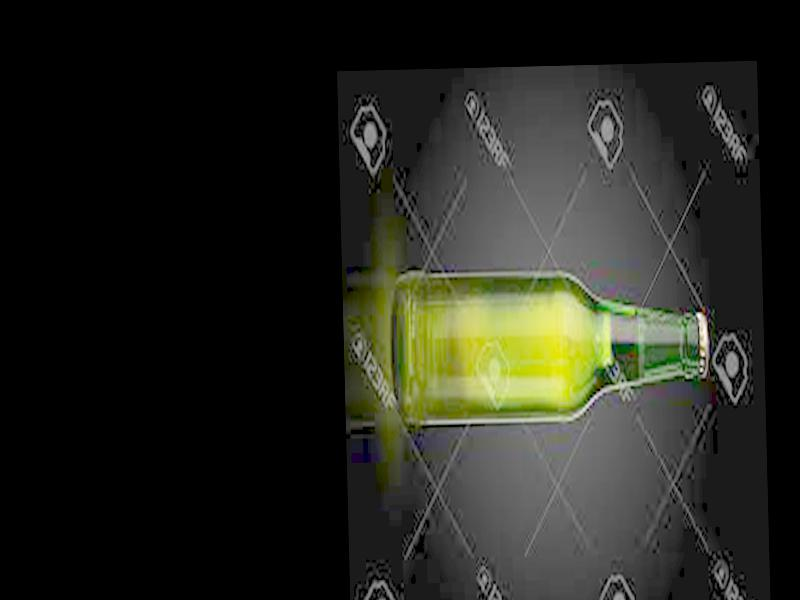Beer: (392, 270, 710, 428)
